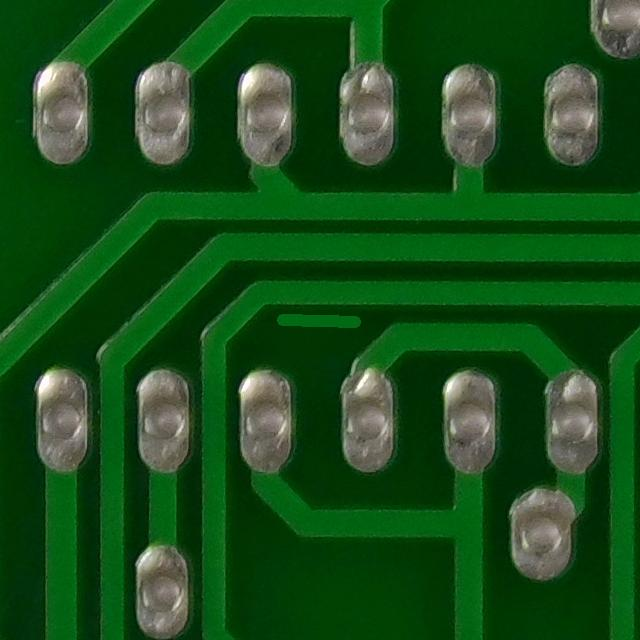spurious_copper: (265, 294, 376, 346)
